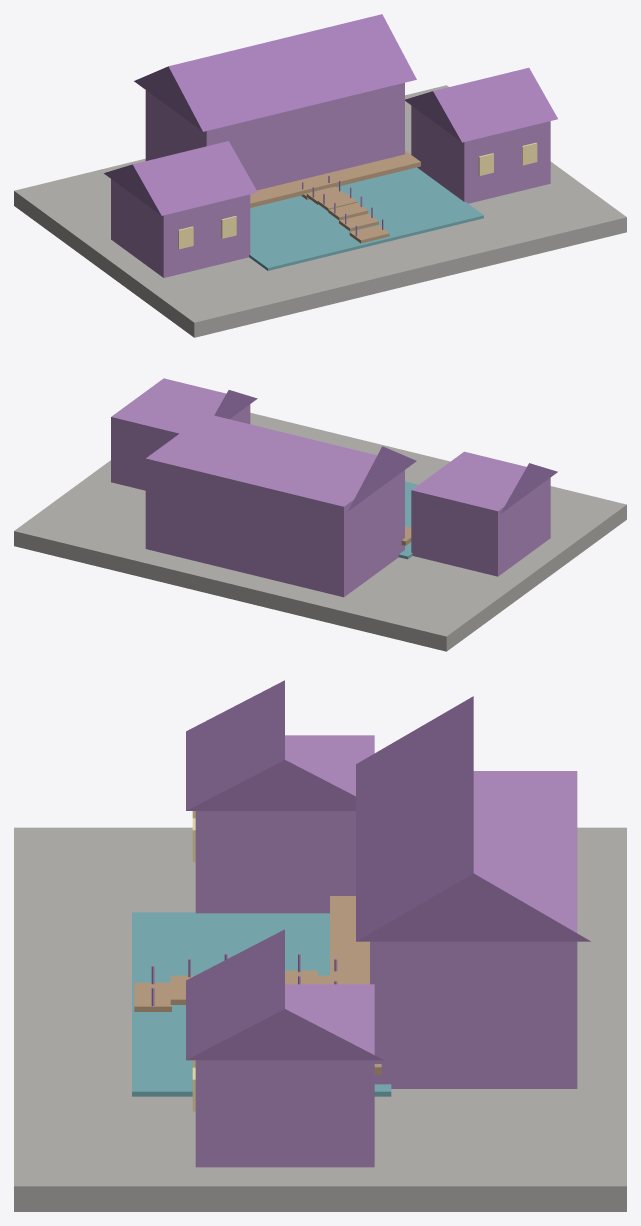
Rendered from lm_107_khu_du_lich_ma_rung_lu_quan_nha_go_tim_cau_treo_da_nghinh.glb.
The picture shows the model from 3 angles, top to bottom: view 1: azimuth 30°, elevation 25°; view 2: azimuth 150°, elevation 25°; view 3: azimuth 270°, elevation 25°; orthographic projection. The views are drawn at different scales.
Parts seen in each view (by area): view 1: lm_107_khu_du_lich_ma_rung_lu_quan_nha_go_tim_cau_treo_da_ng; view 2: lm_107_khu_du_lich_ma_rung_lu_quan_nha_go_tim_cau_treo_da_ng; view 3: lm_107_khu_du_lich_ma_rung_lu_quan_nha_go_tim_cau_treo_da_ng.
Part boxes in pixels (x1,y1,x2,y2): lm_107_khu_du_lich_ma_rung_lu_quan_nha_go_tim_cau_treo_da_ng: (14, 14, 626, 337); lm_107_khu_du_lich_ma_rung_lu_quan_nha_go_tim_cau_treo_da_ng: (14, 378, 626, 651); lm_107_khu_du_lich_ma_rung_lu_quan_nha_go_tim_cau_treo_da_ng: (14, 680, 626, 1211).
Bounding box in the file's own units: 36 × 11.6 × 26.
